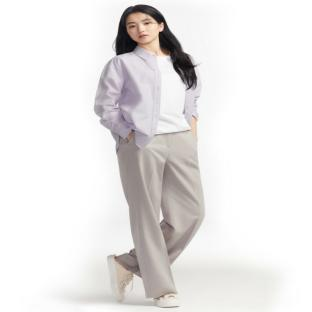Human: (94, 5, 204, 307)
